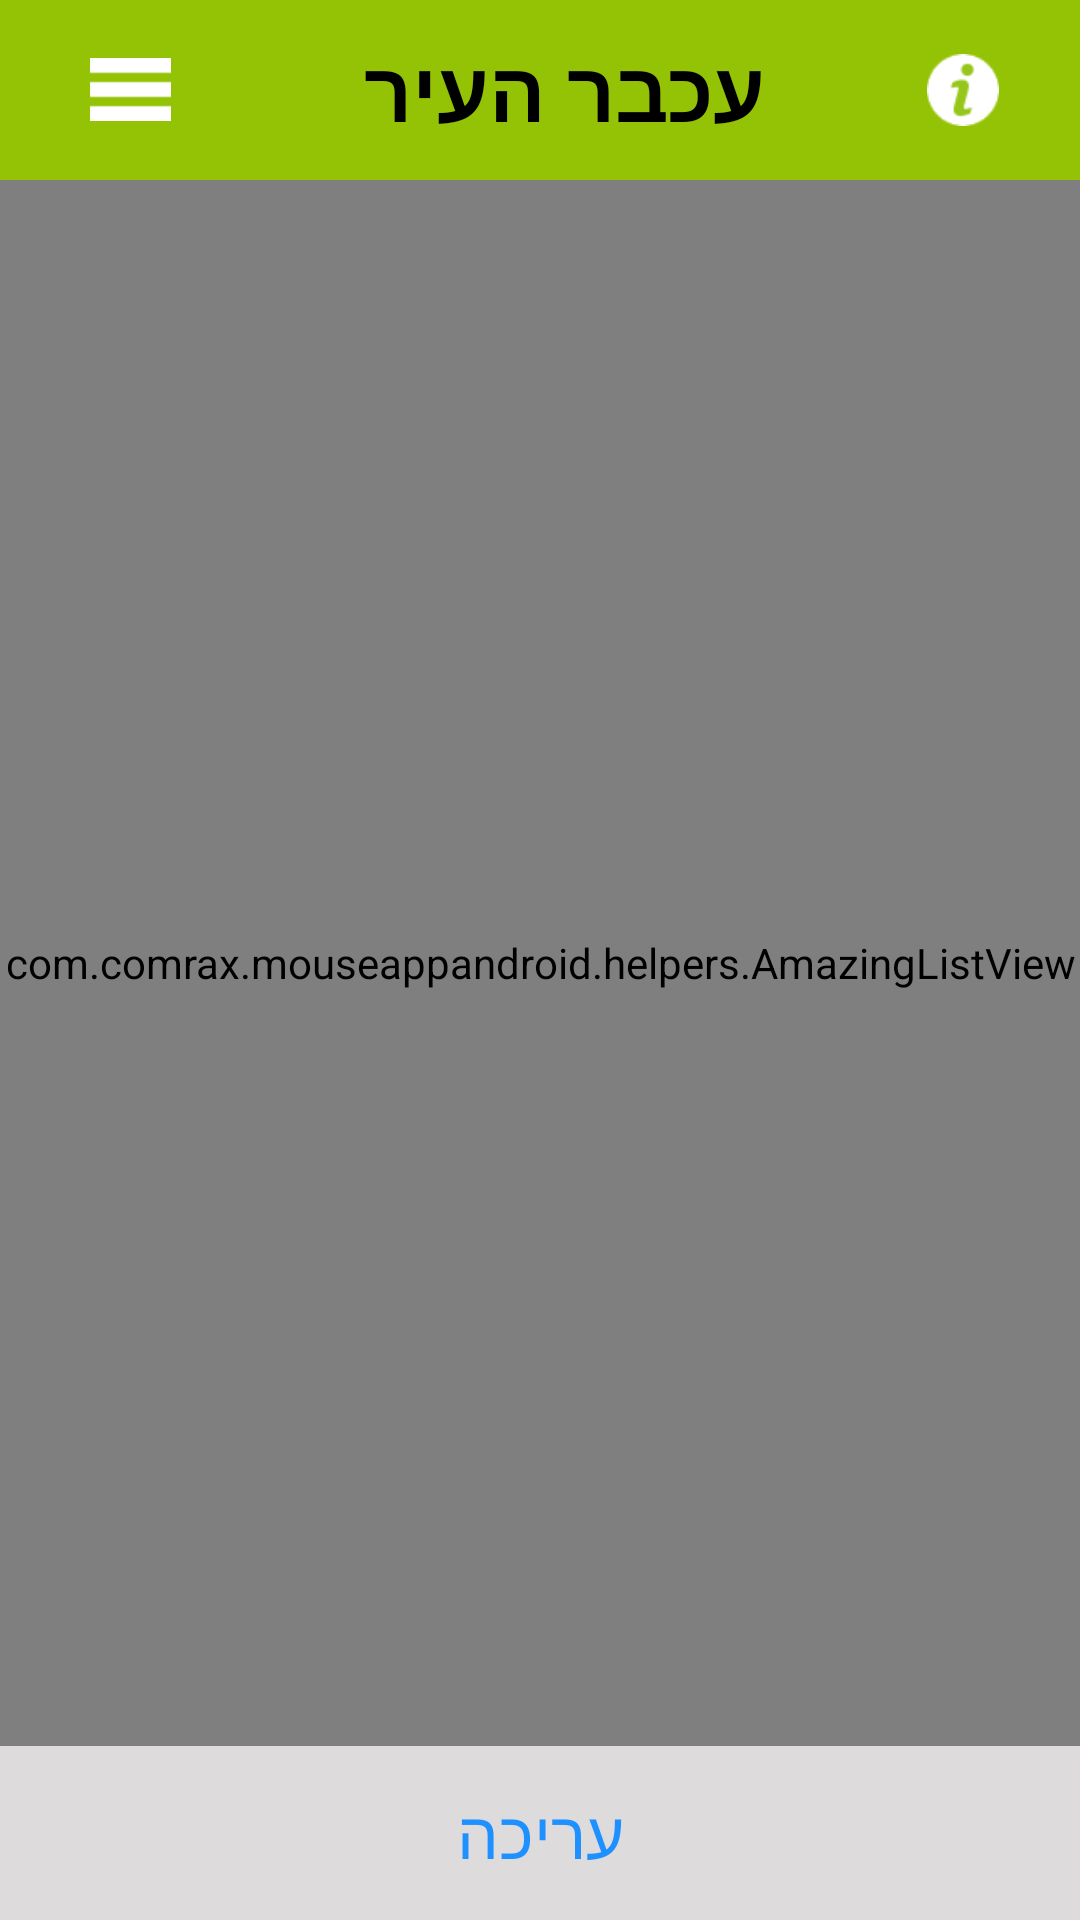

Screen size 1080 x 1920. Icon name, then its box in pixels as (x1, y1, x2, y2):
burger: (90, 58, 171, 121)
info: (927, 54, 999, 126)
